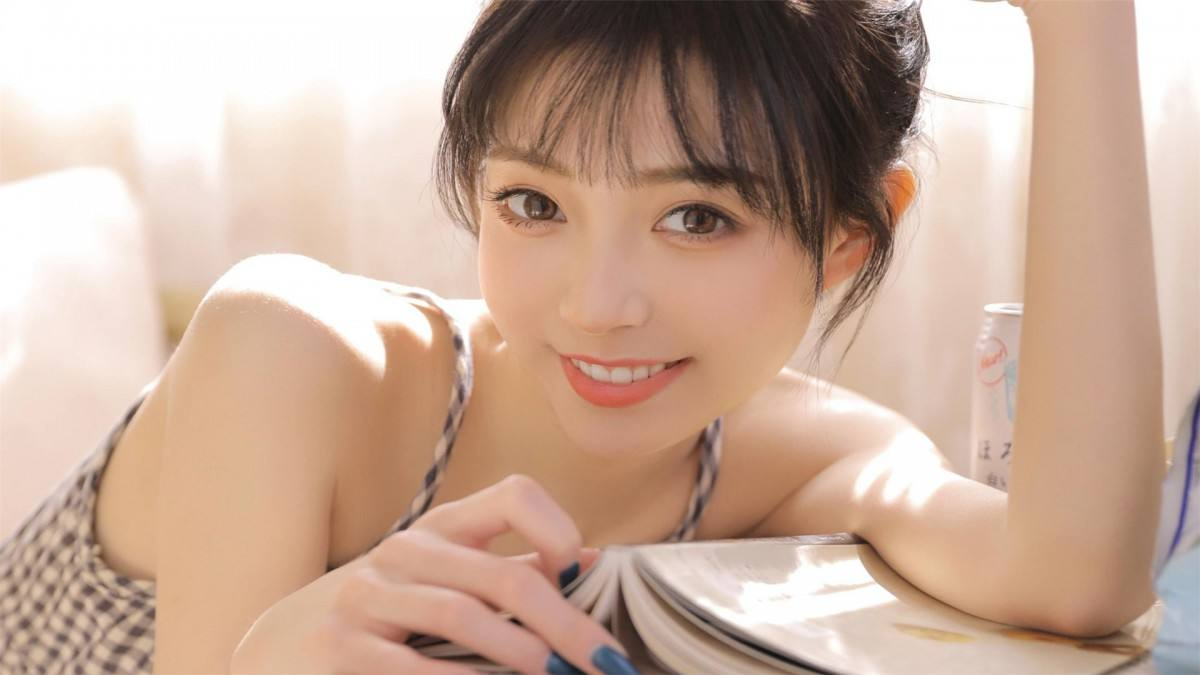person: (361, 4, 980, 474)
